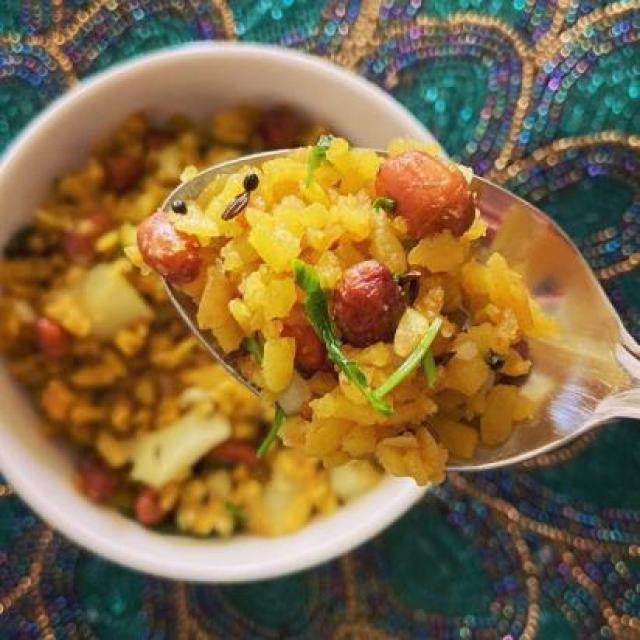poha: (7, 95, 437, 542), (157, 175, 553, 439)
